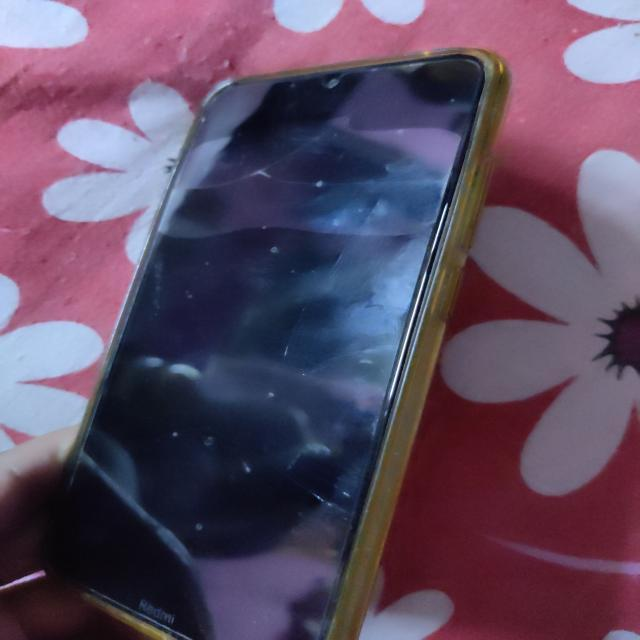scratch: (186, 136, 314, 214), (250, 325, 307, 413), (220, 452, 273, 487), (184, 507, 216, 544)
screen crack: (286, 458, 397, 547)
